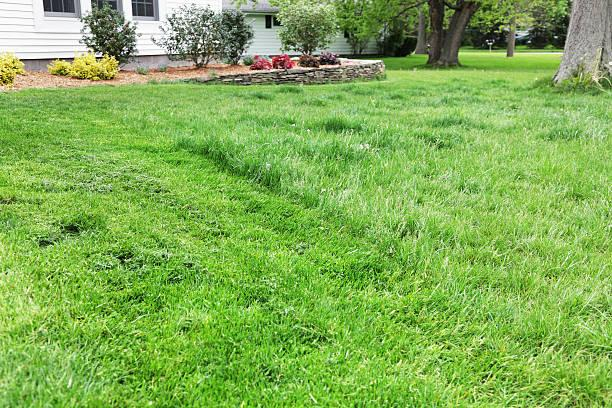overgrown grass: (179, 135, 317, 202), (325, 115, 359, 138), (277, 84, 300, 92), (246, 91, 272, 98)
